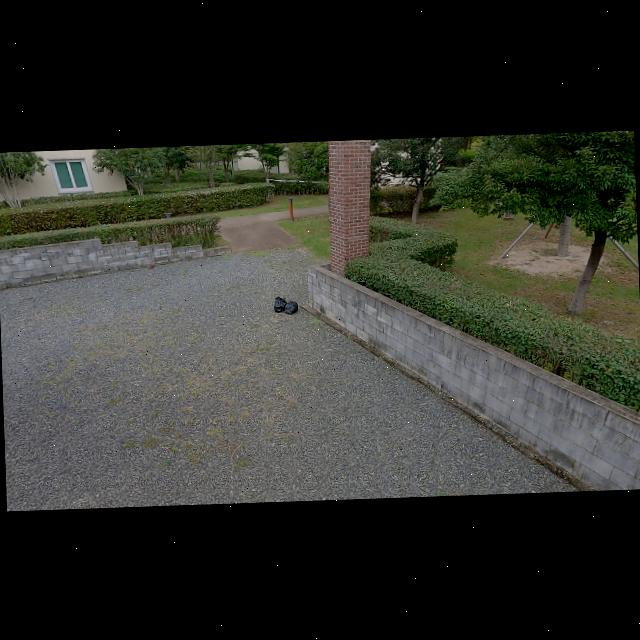trash: (272, 294, 286, 312), (283, 298, 298, 314)
